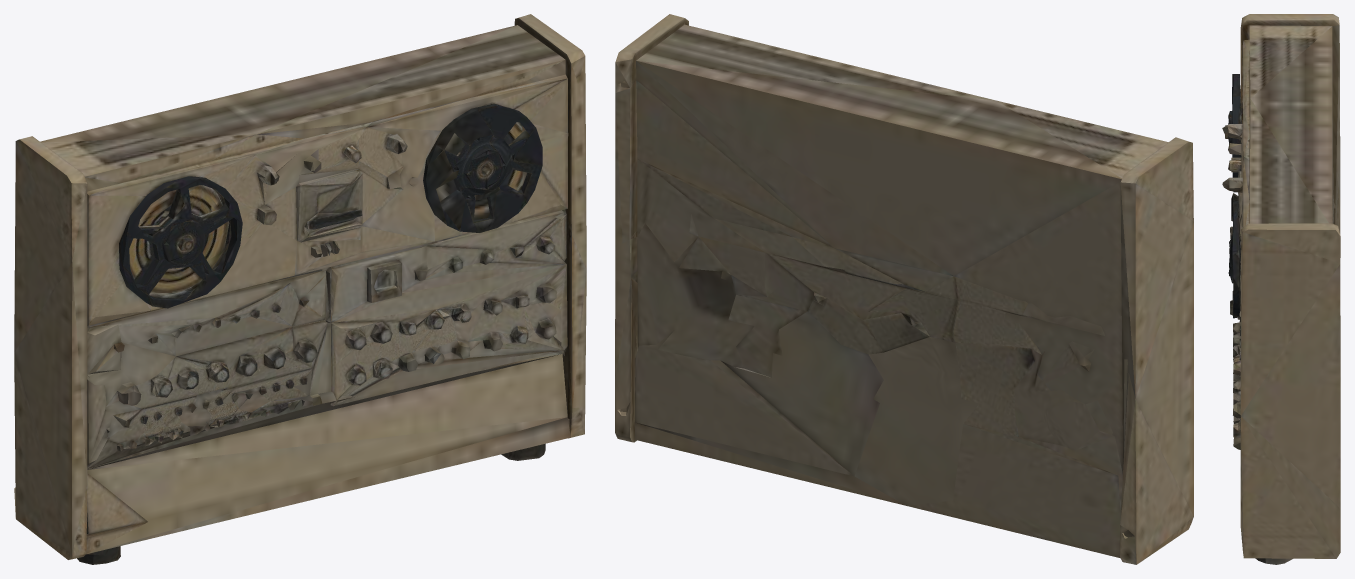
File: computadora.glb
3 renders of one model, left to right at view 1: azimuth 30°, elevation 25°; view 2: azimuth 150°, elevation 25°; view 3: azimuth 270°, elevation 25°, orthographic. The views are drawn at different scales.
Size of the model in its own units: 1.9 by 1.42 by 0.4405.
Materials: 1 (1 with a texture image).
